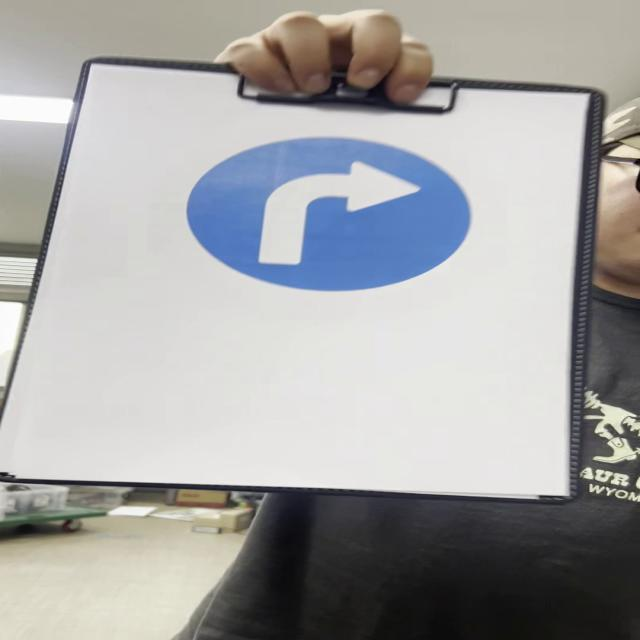right: (188, 139, 480, 292)
